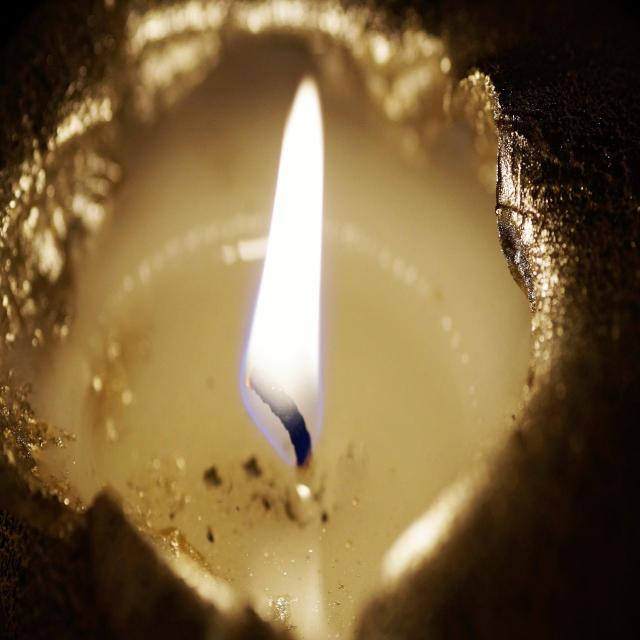Fire_Save: (238, 74, 326, 469)
